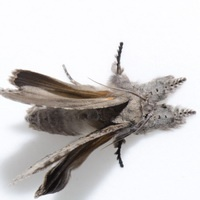insect: (3, 78, 179, 199), (88, 148, 199, 199)
